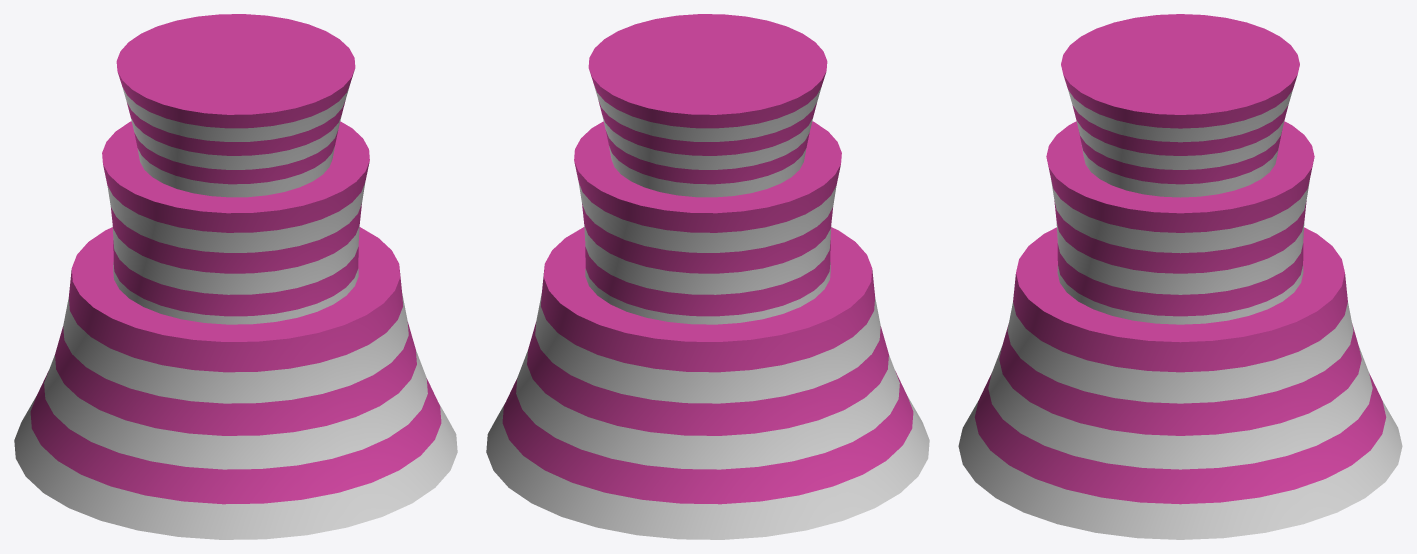
File: 3D_Cake.FBX
3 renders of one model, left to right at view 1: azimuth 30°, elevation 25°; view 2: azimuth 150°, elevation 25°; view 3: azimuth 270°, elevation 25°, orthographic.
Parts seen in each view (by area): view 1: 3D_Cake; view 2: 3D_Cake; view 3: 3D_Cake.
Boxes of the visible parts, x1=… form: 3D_Cake: x1=14, y1=14, x2=457, y2=539; 3D_Cake: x1=486, y1=14, x2=929, y2=539; 3D_Cake: x1=958, y1=14, x2=1402, y2=539.
Size of the model in its own units: 731 by 693 by 731.
